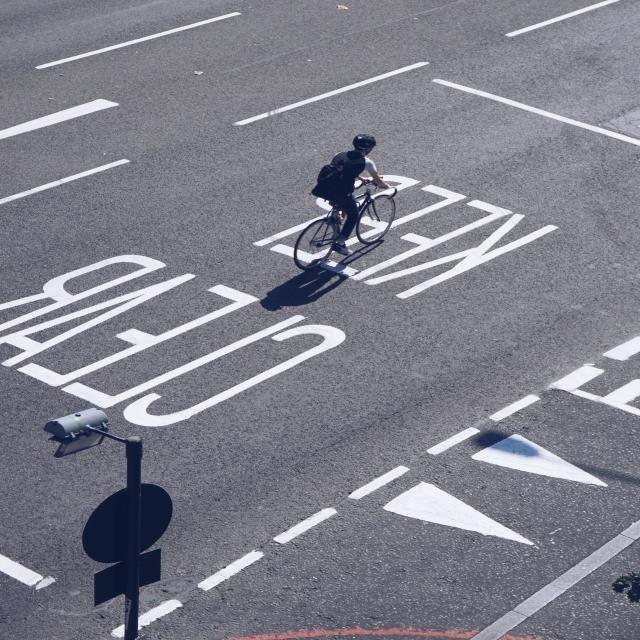adult: (314, 136, 381, 261)
